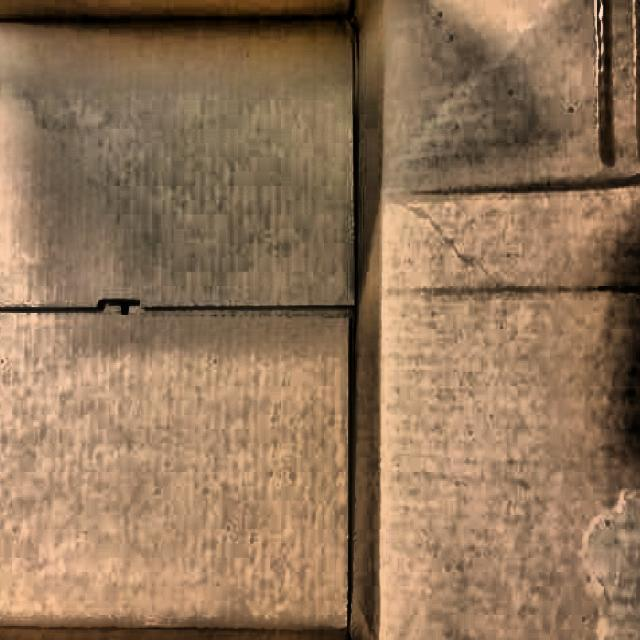cardboard: (0, 14, 359, 640)
